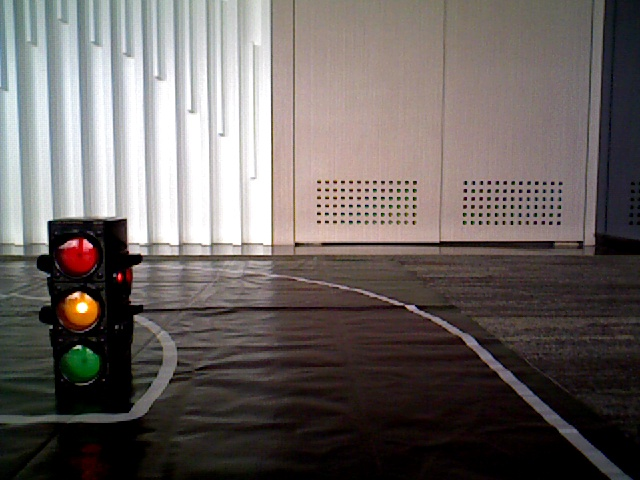yellow: (49, 226, 110, 387)
